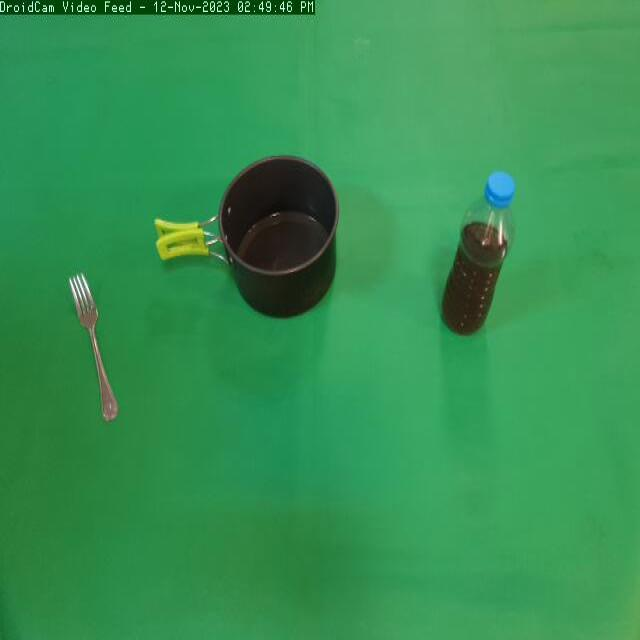fork: (61, 263, 126, 437)
fullbottle: (439, 158, 524, 350)
pot: (150, 149, 347, 337)
